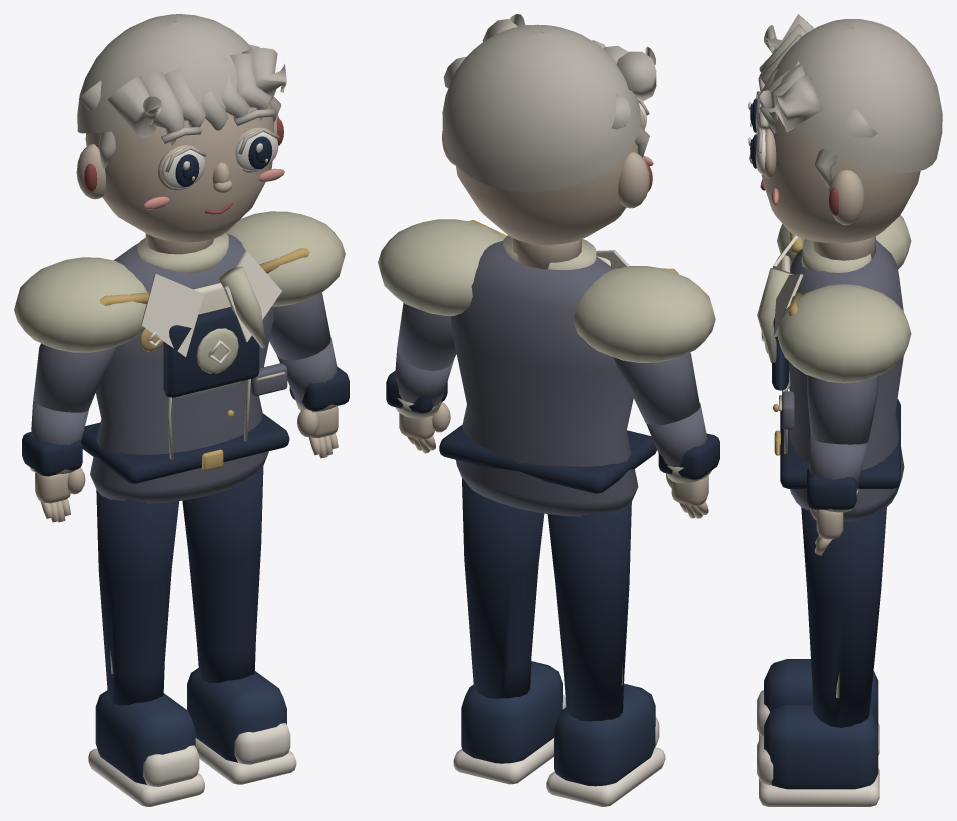
File: grave_character_skeleton.glb
3 views of the same model, side by side, from view 1: azimuth 30°, elevation 25°; view 2: azimuth 150°, elevation 25°; view 3: azimuth 270°, elevation 25° (orthographic).
Parts seen in each view (by area): view 1: figure.011; view 2: figure.011; view 3: figure.011.
Part boxes in pixels (left/top/right/bottom): figure.011: left=14, top=14, right=349, bottom=806; figure.011: left=378, top=14, right=719, bottom=806; figure.011: left=748, top=14, right=942, bottom=806.
Size of the model in its own units: 1.12 by 2.5 by 0.5915.
